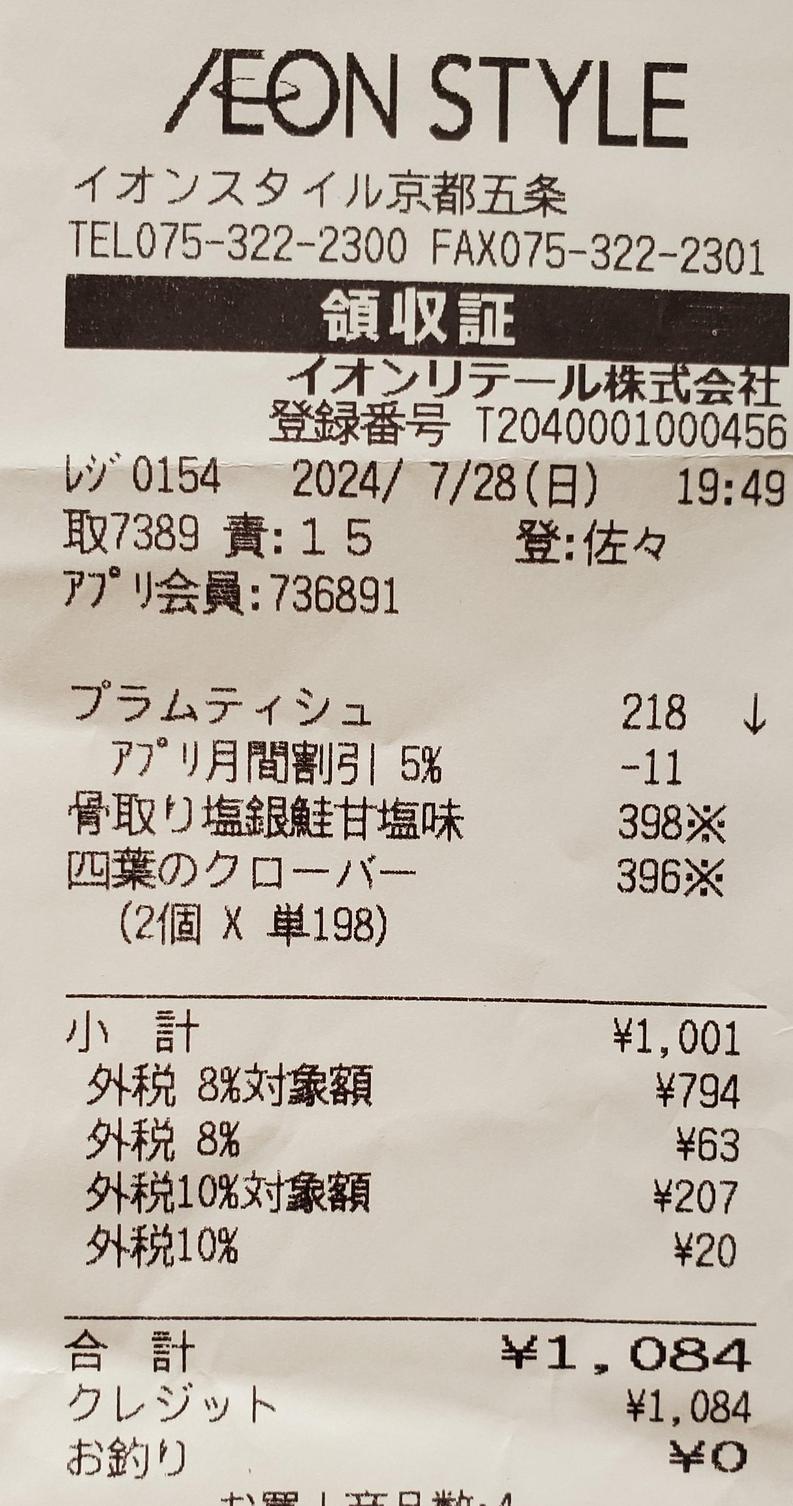TEL: (130, 212, 410, 268)
date: (276, 447, 524, 513)
total: (549, 1326, 763, 1383)
